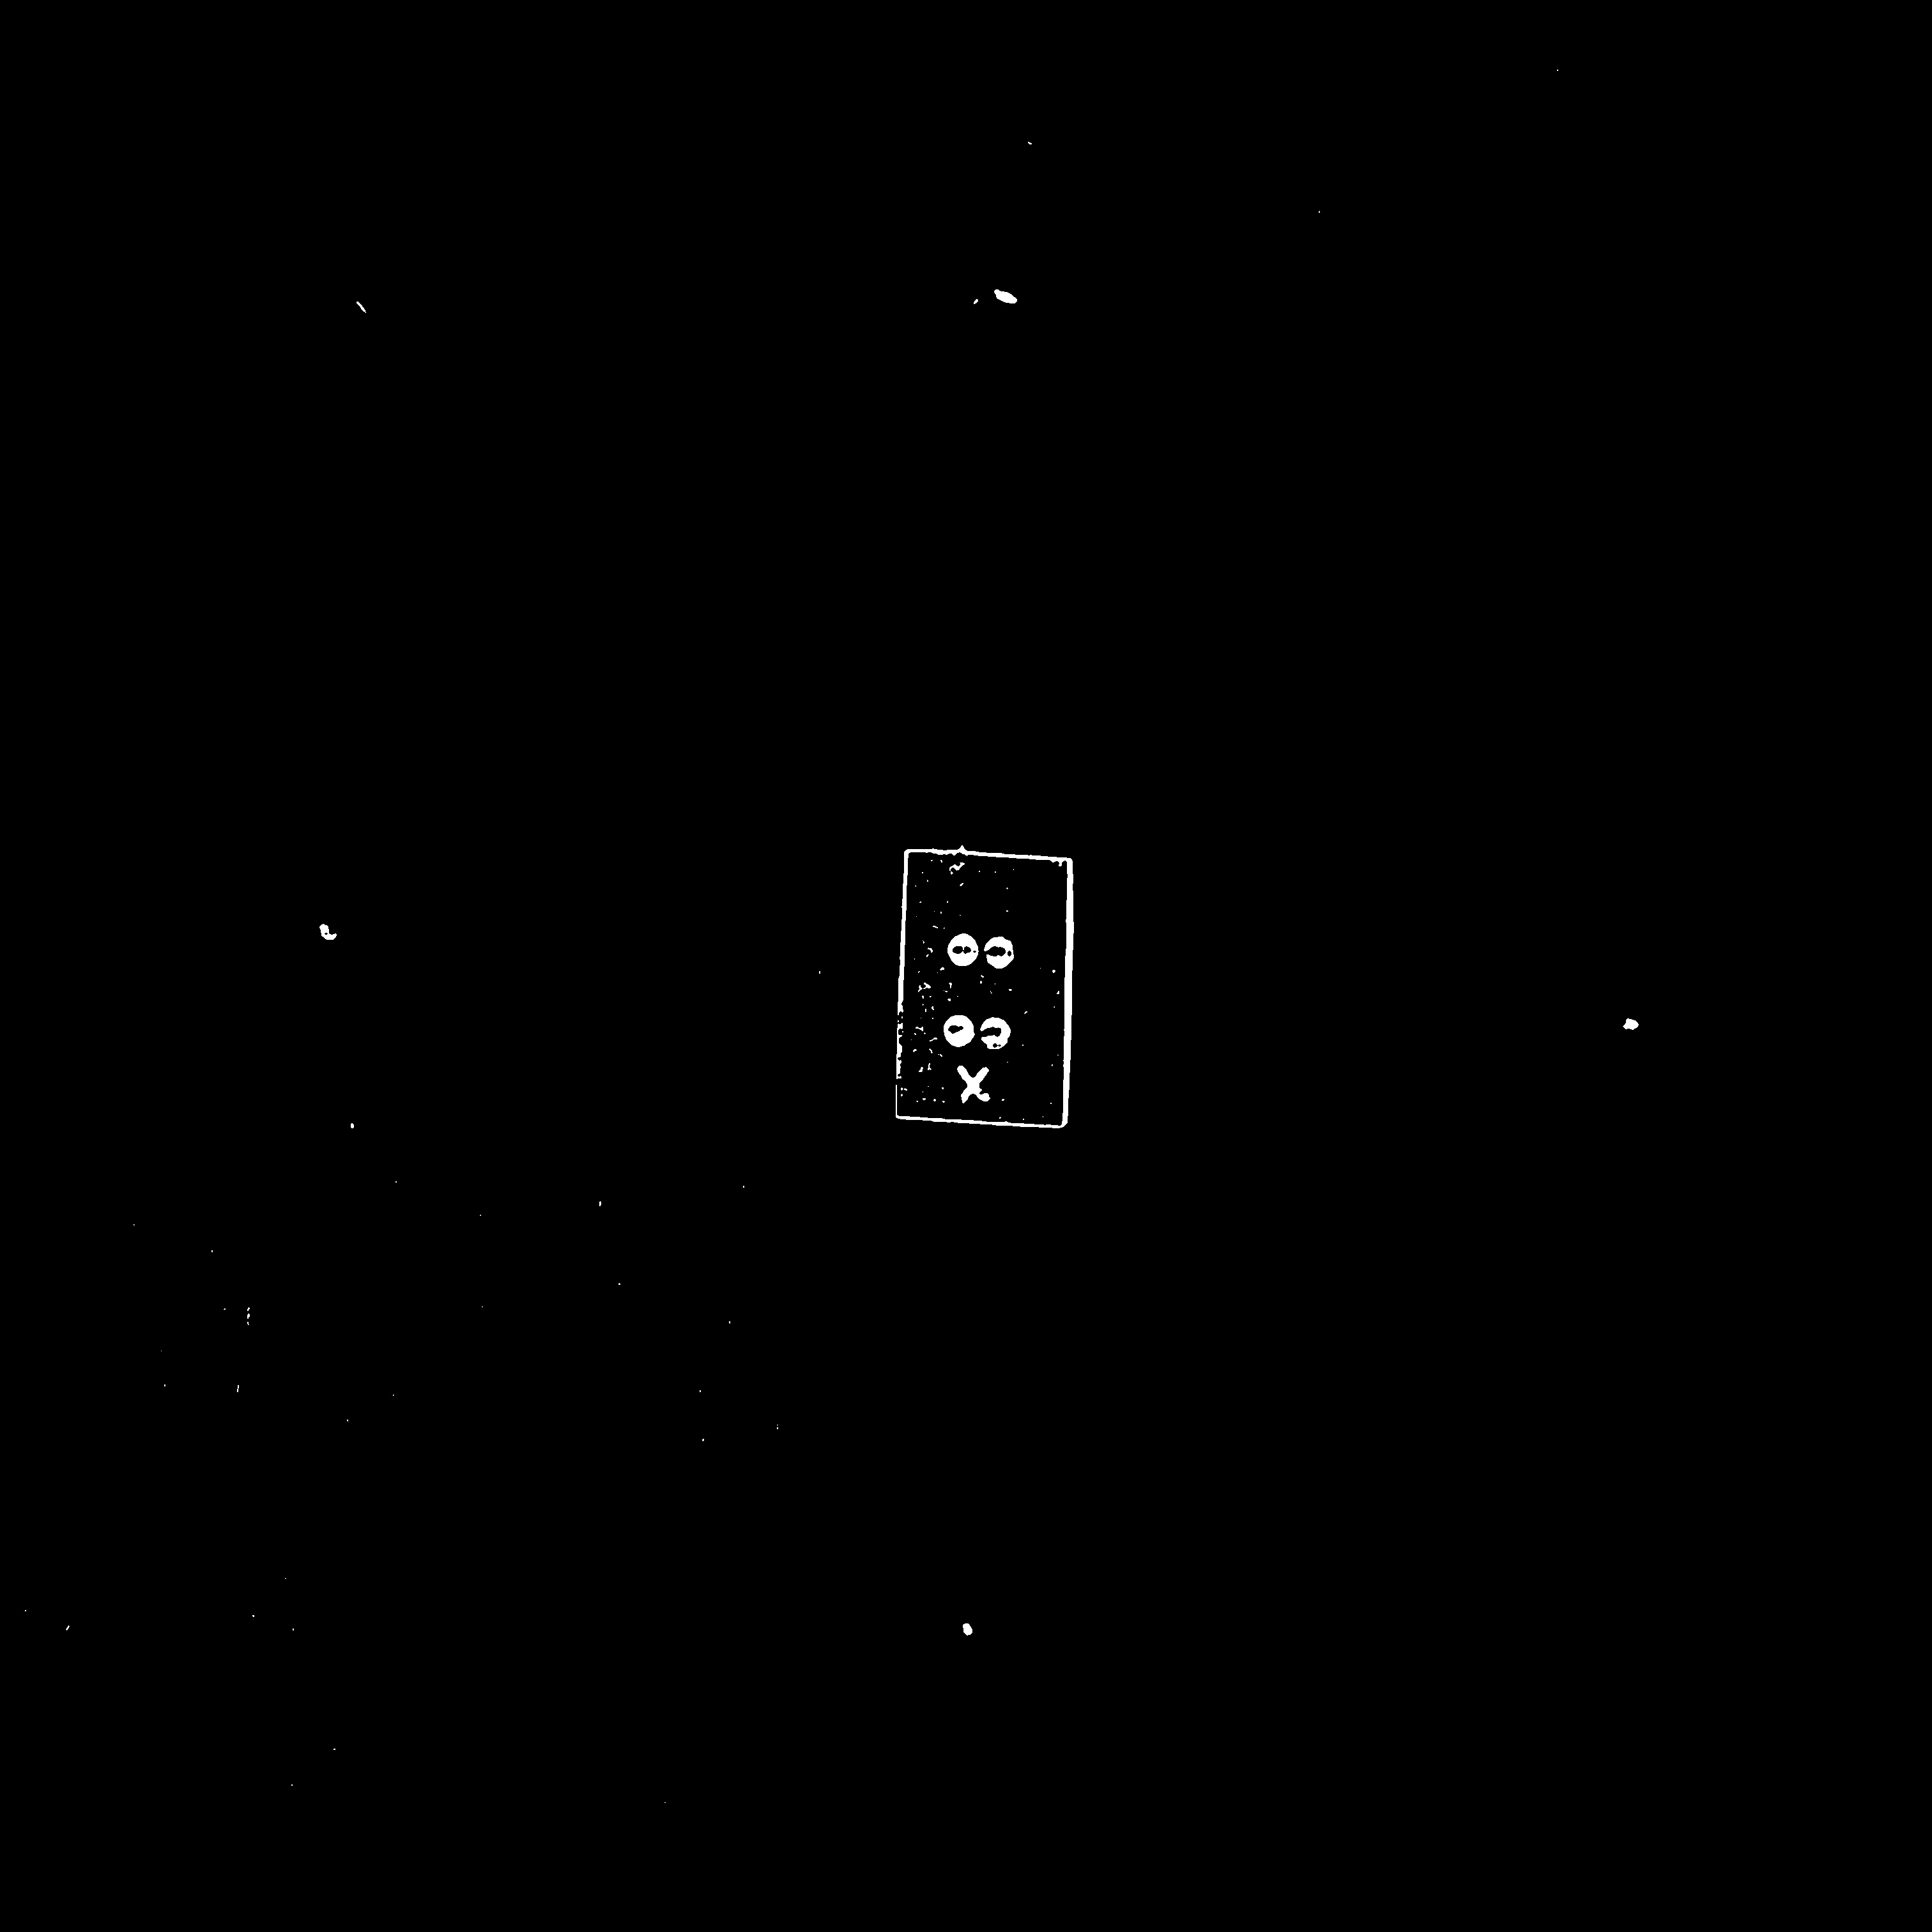x: (935, 916, 1020, 1055)
